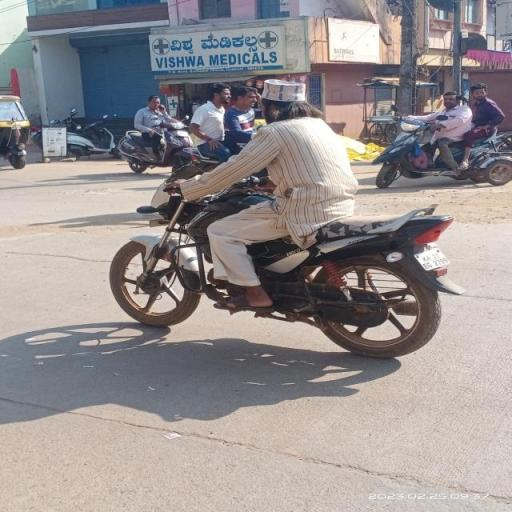bike: (104, 76, 465, 358)
numberplate: (410, 238, 452, 276)
withouthelmet: (262, 81, 308, 122)
